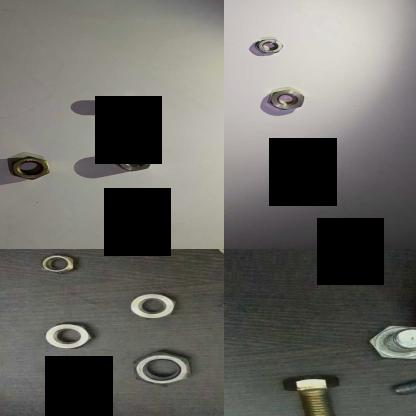Bolts: (282, 373, 348, 416), (366, 317, 416, 363), (388, 371, 416, 397)
NUTS: (129, 348, 195, 390), (42, 316, 96, 354), (126, 288, 180, 324), (6, 156, 52, 182), (34, 251, 80, 275), (262, 86, 304, 112), (112, 148, 152, 174), (249, 36, 285, 56), (100, 99, 132, 117)
